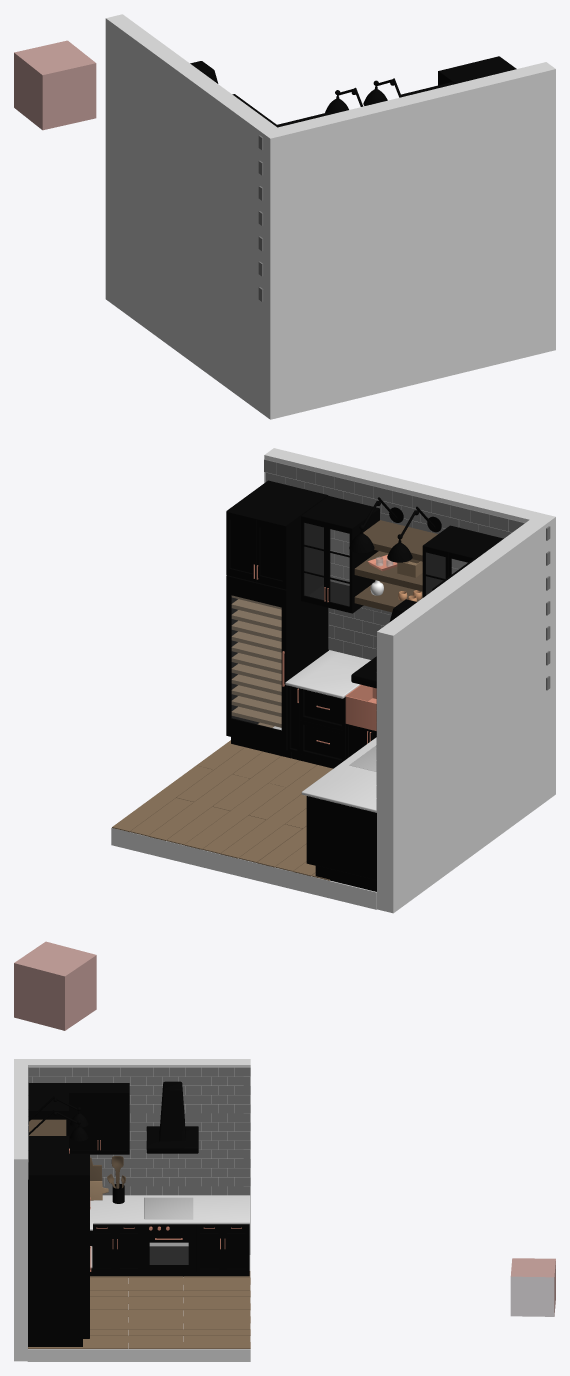
Rendered from room_02.glb.
3 views of the same model, one above another, from view 1: azimuth 30°, elevation 25°; view 2: azimuth 150°, elevation 25°; view 3: azimuth 270°, elevation 25° (orthographic). The views are drawn at different scales.
Visible parts, largest first — view 1: wall 2, wall 1, Cube, Cube.009, tiles; view 2: wall 1, Cube.009, floor, tiles, Cube.032, wall 2, Cube, fridge shelves, Cube.029, wall 3, Cube.008, Cube.005 (+7 smaller); view 3: tiles, Cube.009, floor, Cube.008, Cube.034, wall 2, Cube.029, wall 1, wall 3, Cube, Cube.035, Cube.004 (+4 smaller).
Part boxes in pixels (bbox=[...]): wall 2: bbox=[261, 62, 555, 419]; wall 1: bbox=[105, 14, 276, 412]; Cube: bbox=[14, 40, 96, 130]; Cube.009: bbox=[438, 56, 516, 85]; tiles: bbox=[258, 135, 263, 301]; wall 1: bbox=[377, 519, 546, 913]; Cube.009: bbox=[226, 480, 328, 758]; floor: bbox=[112, 722, 332, 880]; tiles: bbox=[264, 459, 550, 810]; Cube.032: bbox=[301, 496, 379, 613]; wall 2: bbox=[264, 448, 555, 800]; Cube: bbox=[14, 941, 96, 1030]; fridge shelves: bbox=[231, 595, 281, 727]; Cube.029: bbox=[285, 650, 376, 812]; wall 3: bbox=[111, 726, 376, 909]; Cube.008: bbox=[306, 796, 376, 879]; Cube.005: bbox=[287, 685, 345, 763]; tiles: bbox=[28, 1067, 250, 1195]; Cube.009: bbox=[28, 1153, 89, 1346]; floor: bbox=[28, 1271, 250, 1348]; Cube.008: bbox=[90, 1224, 249, 1271]; Cube.034: bbox=[28, 1083, 129, 1154]; wall 2: bbox=[14, 1059, 27, 1361]; Cube.029: bbox=[90, 1195, 249, 1268]; wall 1: bbox=[27, 1059, 250, 1254]; wall 3: bbox=[27, 1255, 250, 1361]; Cube: bbox=[510, 1258, 555, 1316]; Cube.035: bbox=[146, 1081, 198, 1153]; Cube.004: bbox=[90, 1246, 249, 1276].
Bounding box in the file's own units: 10.56 × 10.01 × 24.01.
